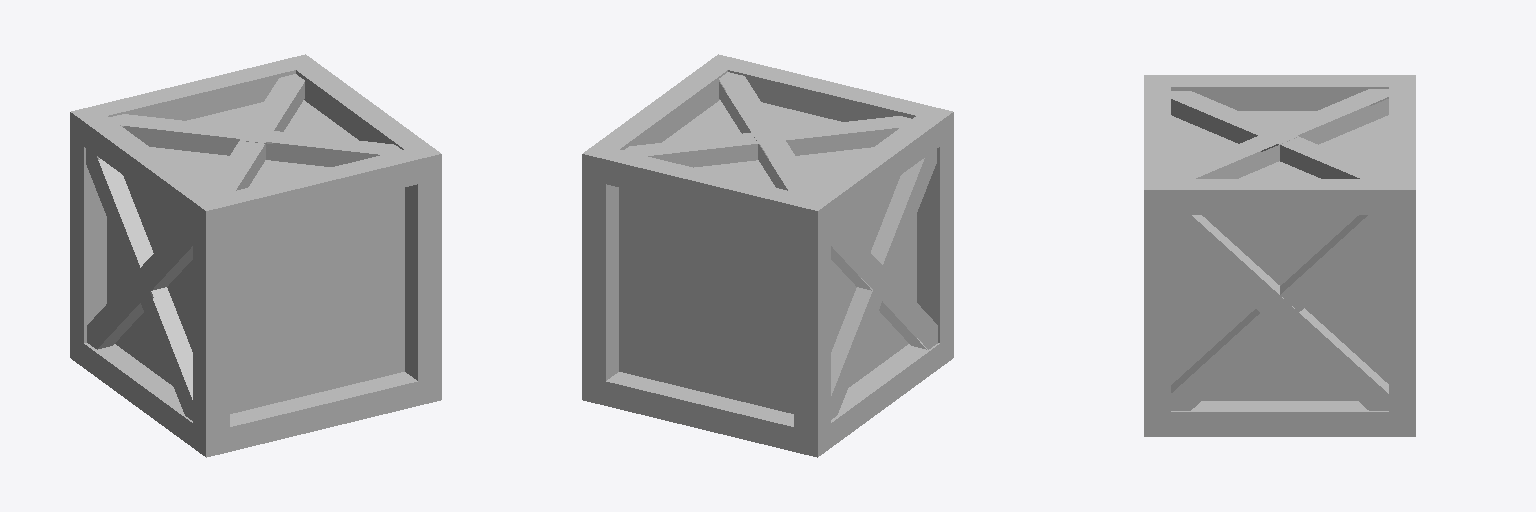
File: crate.obj
3 renders of one model, left to right at view 1: azimuth 30°, elevation 25°; view 2: azimuth 150°, elevation 25°; view 3: azimuth 270°, elevation 25°, orthographic.
Parts seen in each view (by area): view 1: Cube; view 2: Cube; view 3: Cube.
Boxes of the visible parts, box(x1,y1,x2,y2) form: Cube: box(70, 54, 441, 457); Cube: box(582, 54, 953, 457); Cube: box(1144, 75, 1415, 436).
Bounding box in the file's own units: 2 × 2 × 2.